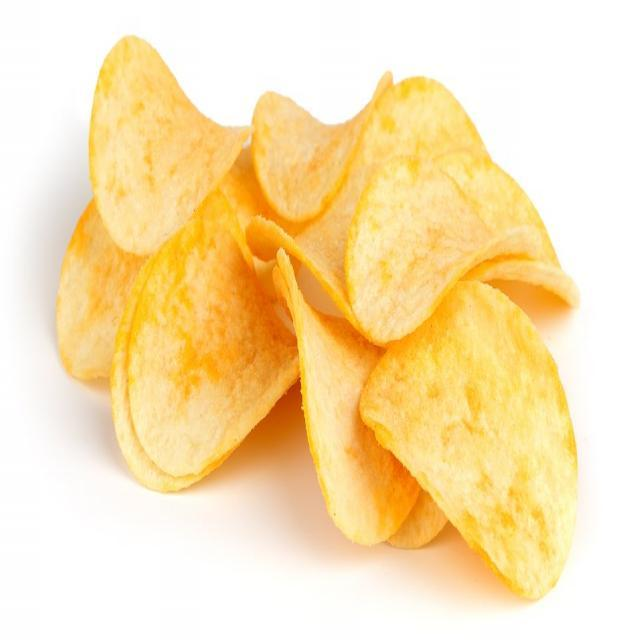Chips packaged: (45, 32, 593, 607)
